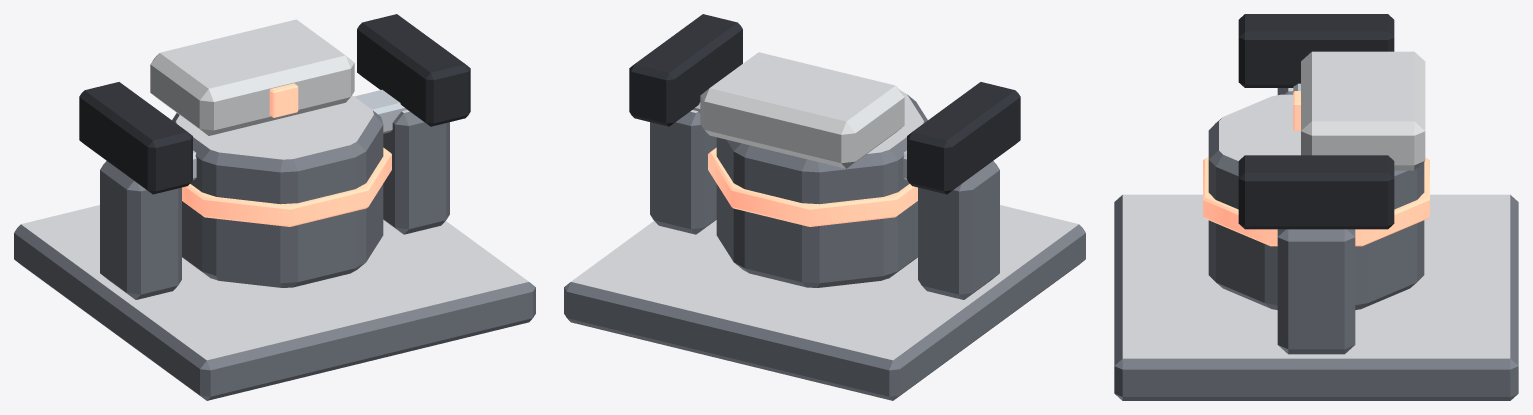
Rendered from R4X_OffensiveTurretDeployer_LOD1.fbx.
3 views of the same model, side by side, from view 1: azimuth 30°, elevation 25°; view 2: azimuth 150°, elevation 25°; view 3: azimuth 270°, elevation 25° (orthographic). The views are drawn at different scales.
Visible parts, largest first — view 1: R4X_OffensiveTurretDeployer_LOD1; view 2: R4X_OffensiveTurretDeployer_LOD1; view 3: R4X_OffensiveTurretDeployer_LOD1.
Boxes of the visible parts, x1,y1,x2,y2 form: R4X_OffensiveTurretDeployer_LOD1: (14,14,535,400); R4X_OffensiveTurretDeployer_LOD1: (564,14,1085,400); R4X_OffensiveTurretDeployer_LOD1: (1114,14,1518,400).
Size of the model in its own units: 0.52 by 0.33 by 0.52.
